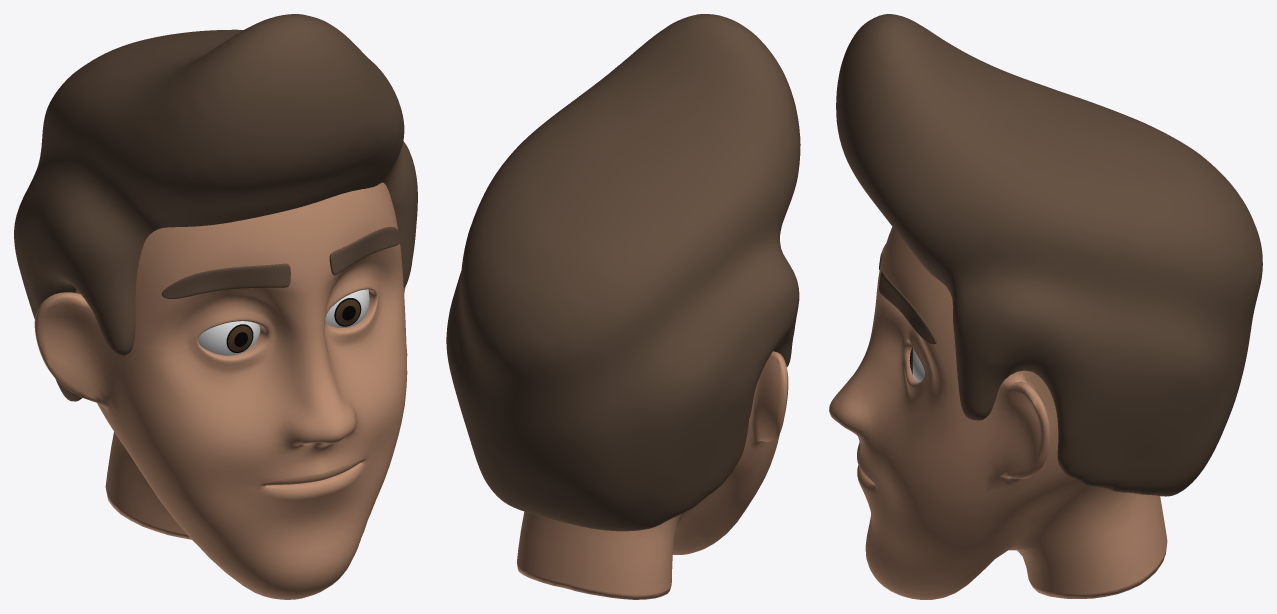
File: Alfred.glb
3 views of the same model, side by side, from view 1: azimuth 30°, elevation 25°; view 2: azimuth 150°, elevation 25°; view 3: azimuth 270°, elevation 25° (orthographic). The views are drawn at different scales.
Parts seen in each view (by area): view 1: Face, Eye.R, Eye.L; view 2: Face; view 3: Face.
Part boxes in pixels (x1,y1,x2,y2): Face: (14,14,417,599); Eye.R: (198,321,260,355); Eye.L: (325,289,369,327); Face: (446,14,800,599); Face: (829,14,1262,599).
Size of the model in its own units: 0.9899 by 1.5 by 1.04.
